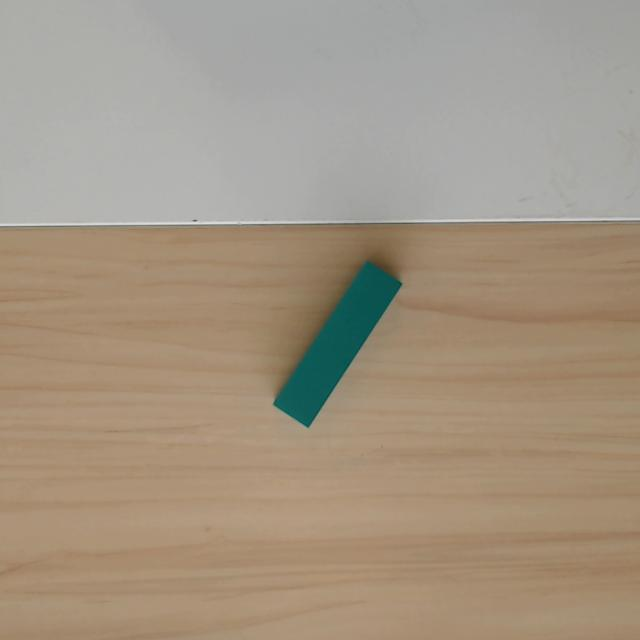Balok-Hijau-1002525: (272, 259, 403, 428)
